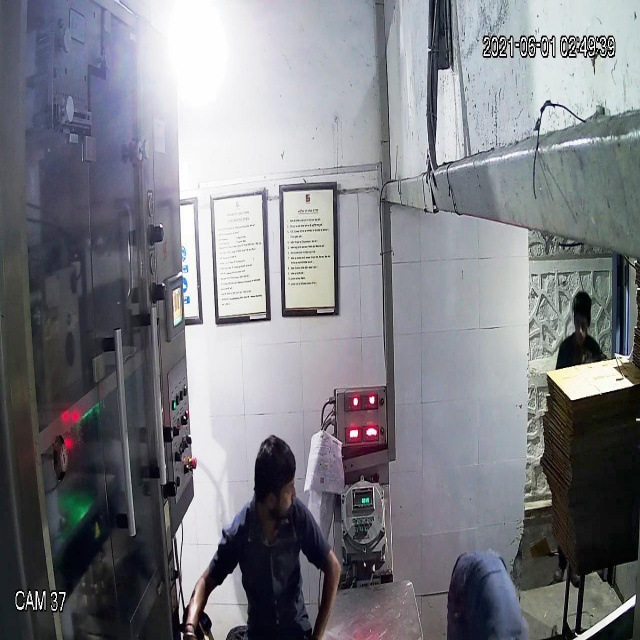Sin_gafas: (254, 470, 300, 509)
